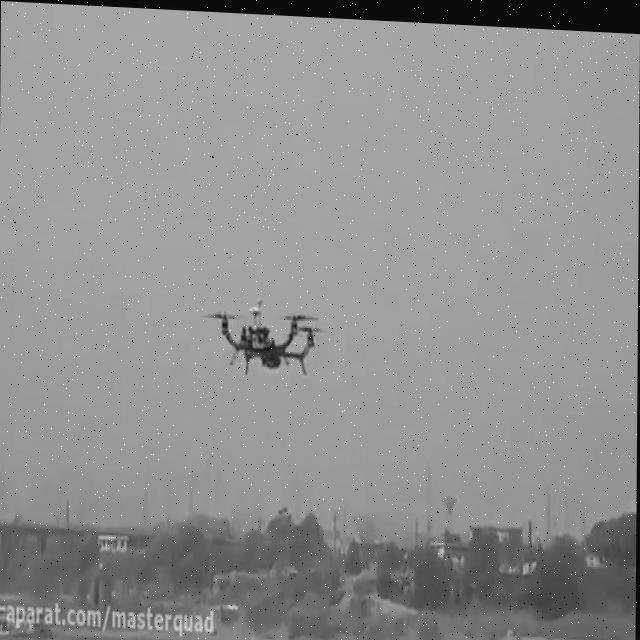drone: (197, 287, 331, 377)
